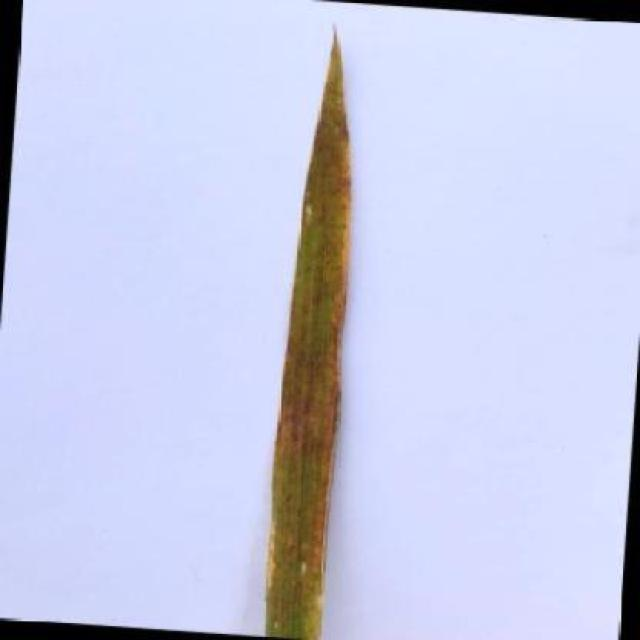Rice False Smut: (256, 15, 367, 639)
